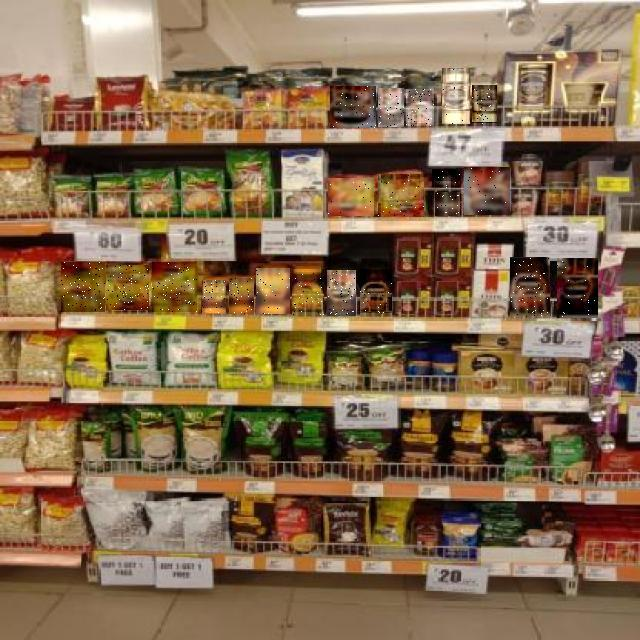Coffee: (557, 259, 598, 319), (510, 258, 550, 318), (152, 262, 197, 312), (464, 167, 510, 215), (61, 262, 105, 312), (378, 174, 424, 217), (106, 265, 149, 310), (330, 86, 376, 128), (329, 178, 375, 216), (442, 68, 470, 124), (256, 269, 290, 315), (293, 270, 325, 316), (360, 270, 392, 316), (327, 270, 356, 316), (406, 89, 434, 126), (379, 88, 405, 127), (472, 86, 497, 126), (229, 278, 254, 314), (202, 280, 226, 314), (435, 193, 460, 217), (432, 169, 460, 188)
